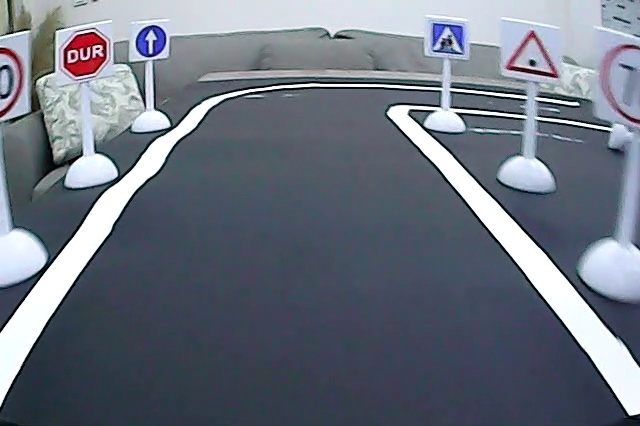green light: (500, 24, 562, 82)
school crossing: (429, 20, 468, 60)
stop sign: (58, 25, 112, 82)
